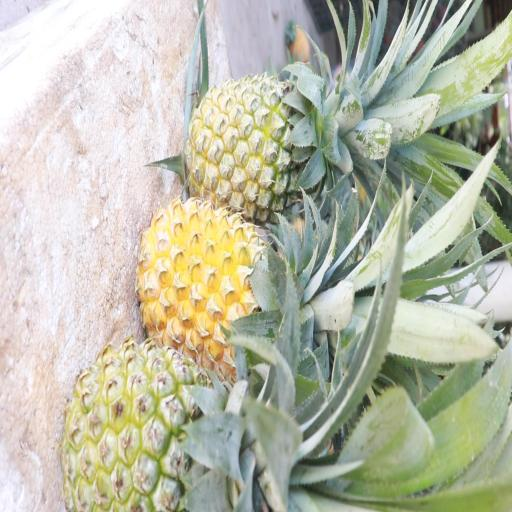------------------------------: (64, 342, 251, 512), (190, 69, 336, 216)
Pineapple - v8 v1: (137, 194, 301, 367)
